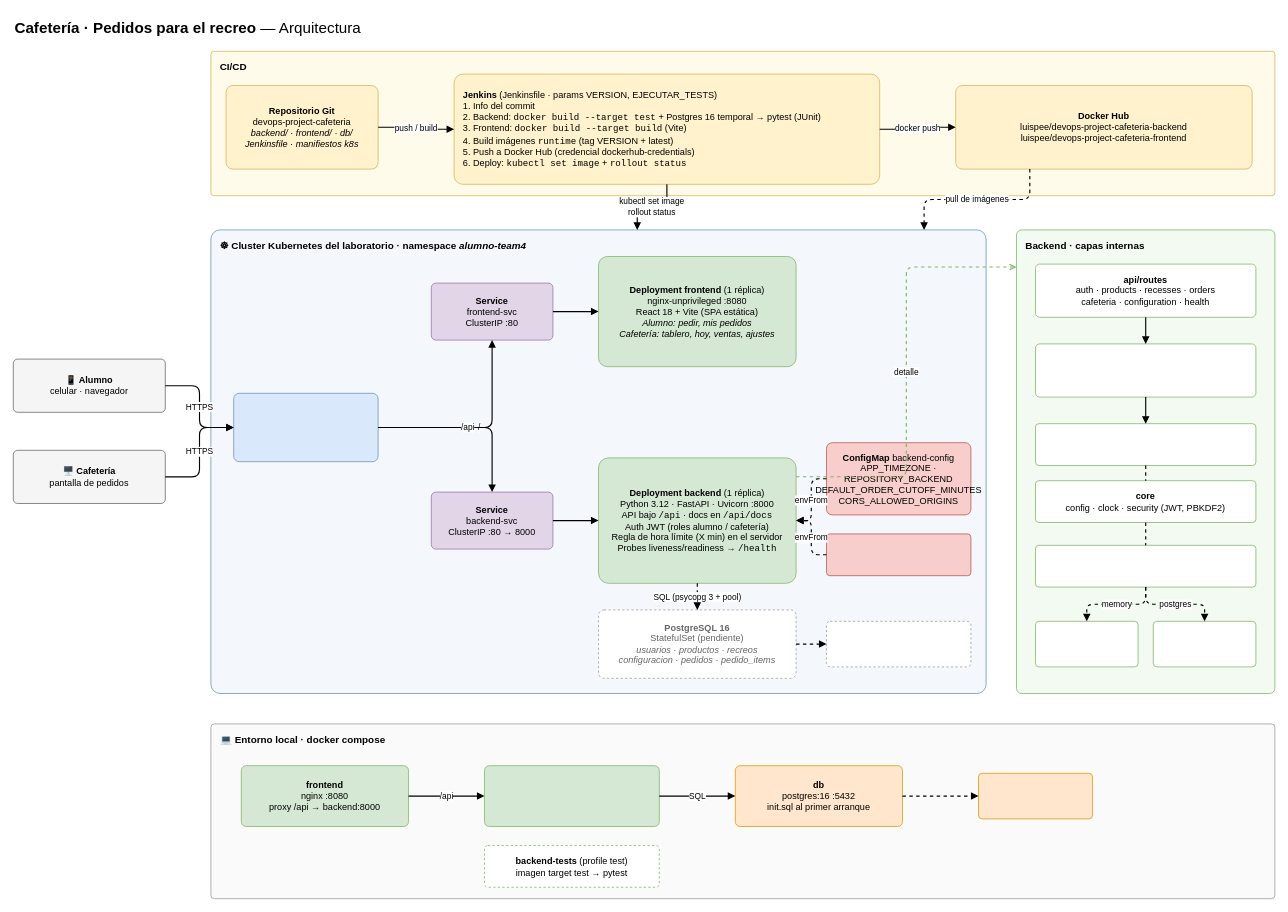
Image size: 1288x912. Some labels were removed from this diagram. The centre of each missing label's shape, as x and y in pixels:
backend FastAPI :8000 REPOSITORY_BACKEND=postgres: pixel 571 795
domain models · schedule (hora límite) · errors: pixel 1145 444
in_memory + seed_data: pixel 1086 644
Ingress (nginx) pedidos-ingress pedidos.reto-ucu.net: pixel 305 427
PersistentVolumeClaim (pendiente): pixel 898 644
postgres psycopg 3: pixel 1204 644
repositories (interfaces + factory) REPOSITORY_BACKEND: pixel 1145 566
Secret backend-secret JWT_SECRET: pixel 898 554
services auth · catalog · order · cafeteria configuration · recess_schedule: pixel 1145 370
Volumen postgres-data: pixel 1035 796
